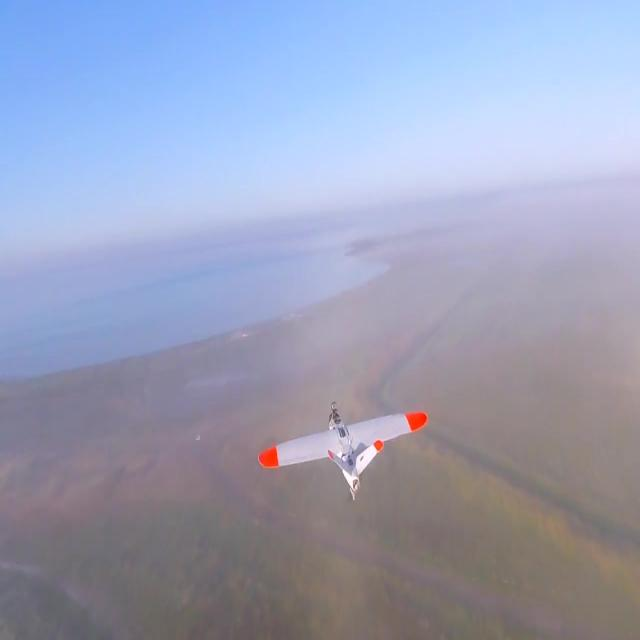iha: (257, 431, 429, 469)
